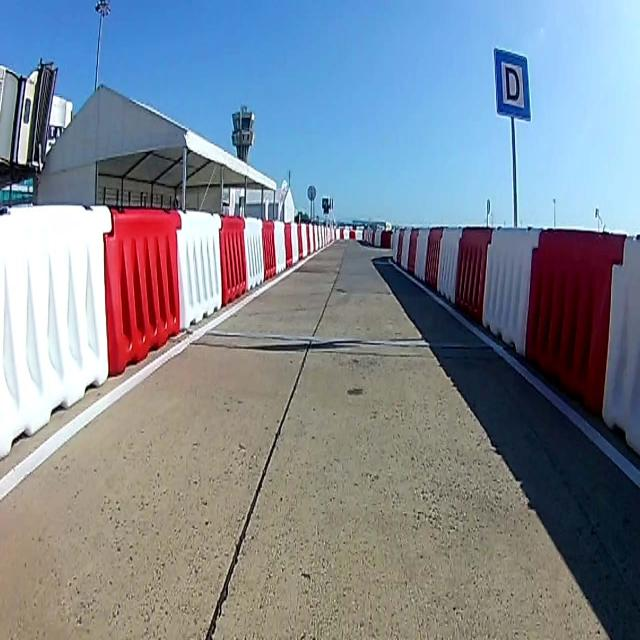durak: (495, 47, 529, 118)
